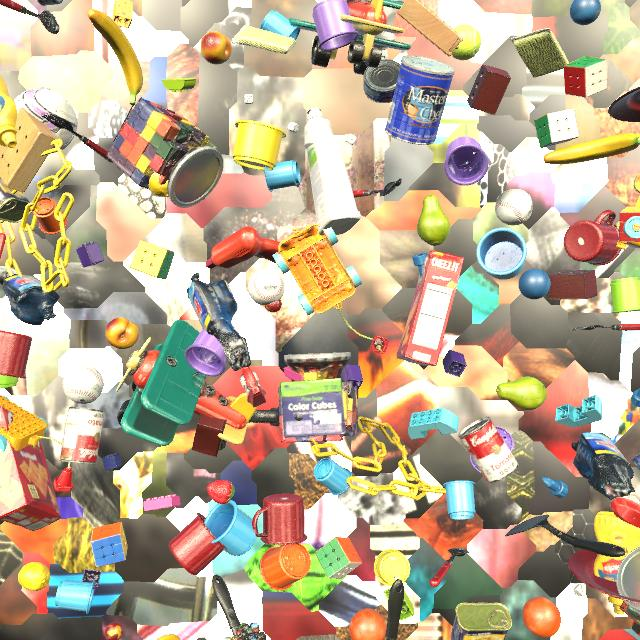ycb_002_master_chef_can: (385, 55, 455, 145)
ycb_003_cracker_box: (397, 250, 464, 366), (0, 406, 61, 531)
ycb_005_tomato_soup_can: (458, 416, 518, 483), (59, 407, 104, 464)
ycb_006_mustard_bottle: (594, 512, 640, 614), (0, 76, 17, 148)
ycb_007_tuna_fish_can: (363, 59, 401, 103), (631, 453, 640, 471), (37, 0, 63, 6)
ycb_010_potted_meat_can: (450, 603, 512, 640), (0, 178, 33, 223)
ycb_011_banana: (87, 9, 143, 105), (543, 133, 640, 164)
ycb_012_strawberry: (207, 480, 235, 504)
ycb_014_lemon: (18, 562, 50, 591), (149, 172, 169, 197)
ycb_015_peach: (200, 31, 232, 65), (105, 317, 139, 349), (157, 634, 181, 640)
ycb_016_pear: (417, 194, 450, 246), (496, 377, 547, 410)
ycb_017_orange: (522, 597, 561, 637), (349, 608, 386, 640)
